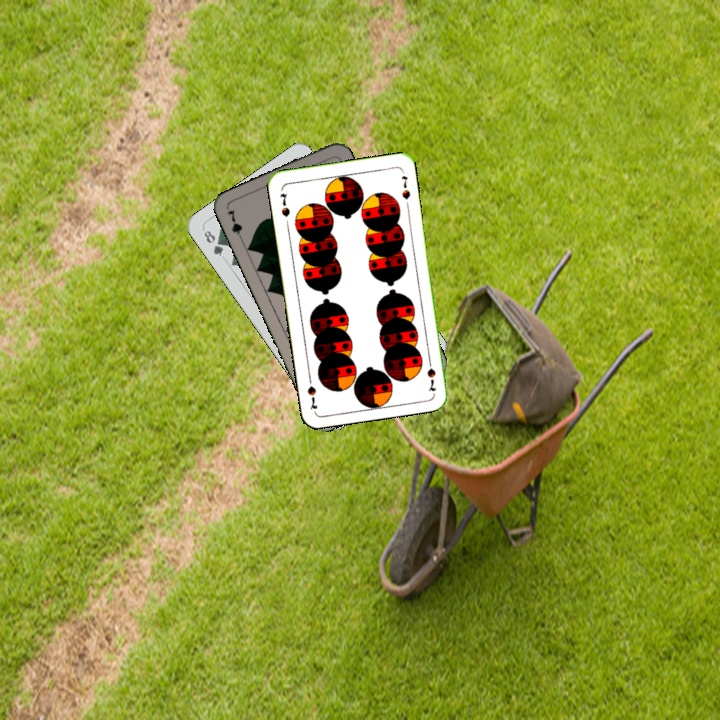G7: (223, 205, 246, 245)
G8: (200, 226, 226, 259)
S7: (423, 354, 439, 394), (276, 189, 292, 220)
